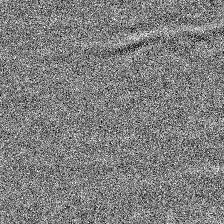cavities: (59, 40, 179, 184)
